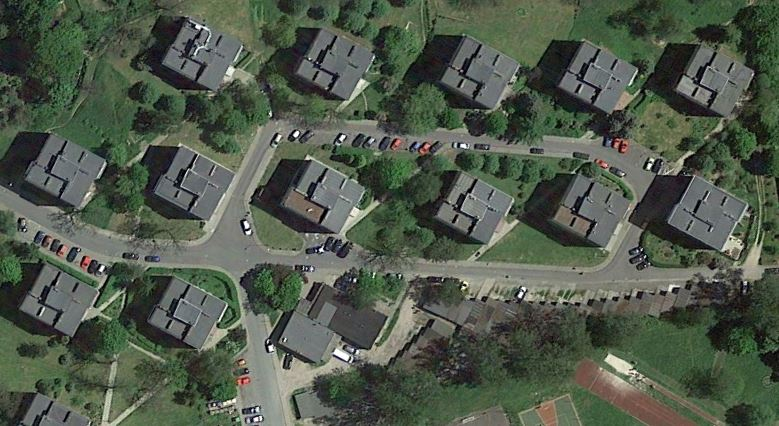block of flats: (273, 152, 371, 231), (22, 127, 109, 215), (427, 164, 516, 245), (543, 170, 632, 251), (661, 171, 750, 252), (147, 271, 236, 352), (11, 256, 100, 337), (158, 12, 247, 93), (289, 22, 378, 103), (434, 31, 523, 112), (554, 36, 643, 117), (668, 38, 757, 119), (151, 142, 239, 223)
garage: (271, 281, 393, 369)
